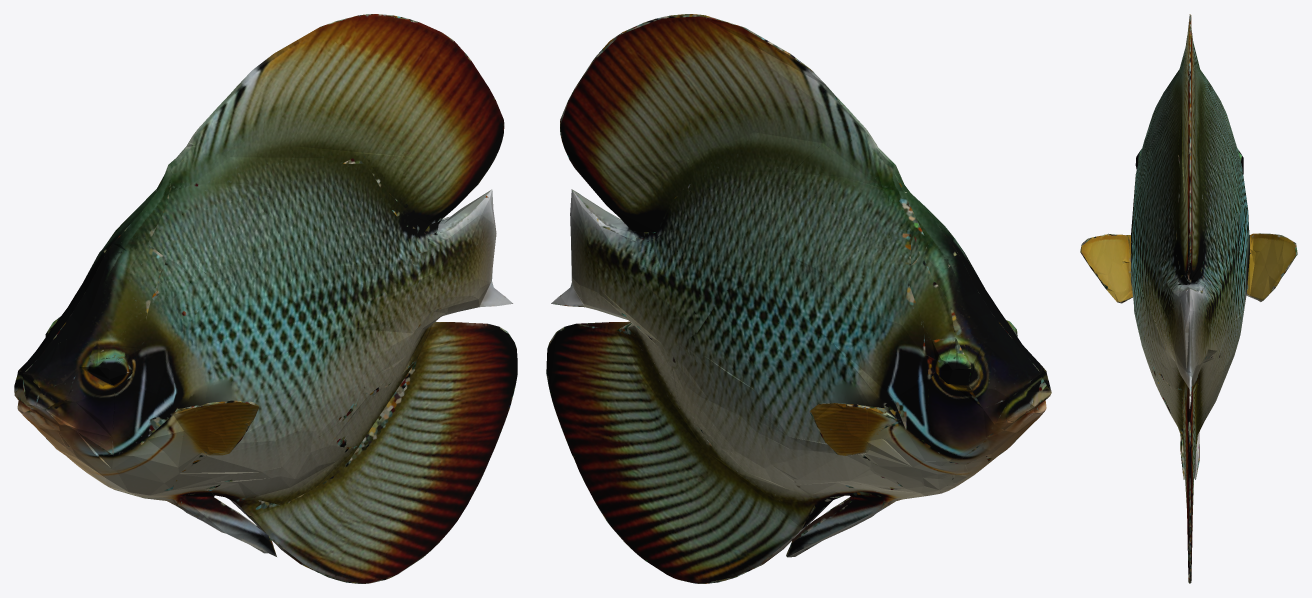
File: fish_0080_smpl23_resized.glb
3 views of the same model, side by side, from view 1: azimuth 30°, elevation 25°; view 2: azimuth 150°, elevation 25°; view 3: azimuth 270°, elevation 25° (orthographic). The views are drawn at different scales.
Parts seen in each view (by area): view 1: world; view 2: world; view 3: world.
Boxes of the visible parts, x1,y1,x2,y2 form: world: (14,14,517,583); world: (546,14,1051,583); world: (1080,14,1297,583).
Size of the model in its own units: 1.82 by 1.99 by 0.7395.
Materials: 1 (1 with a texture image).
